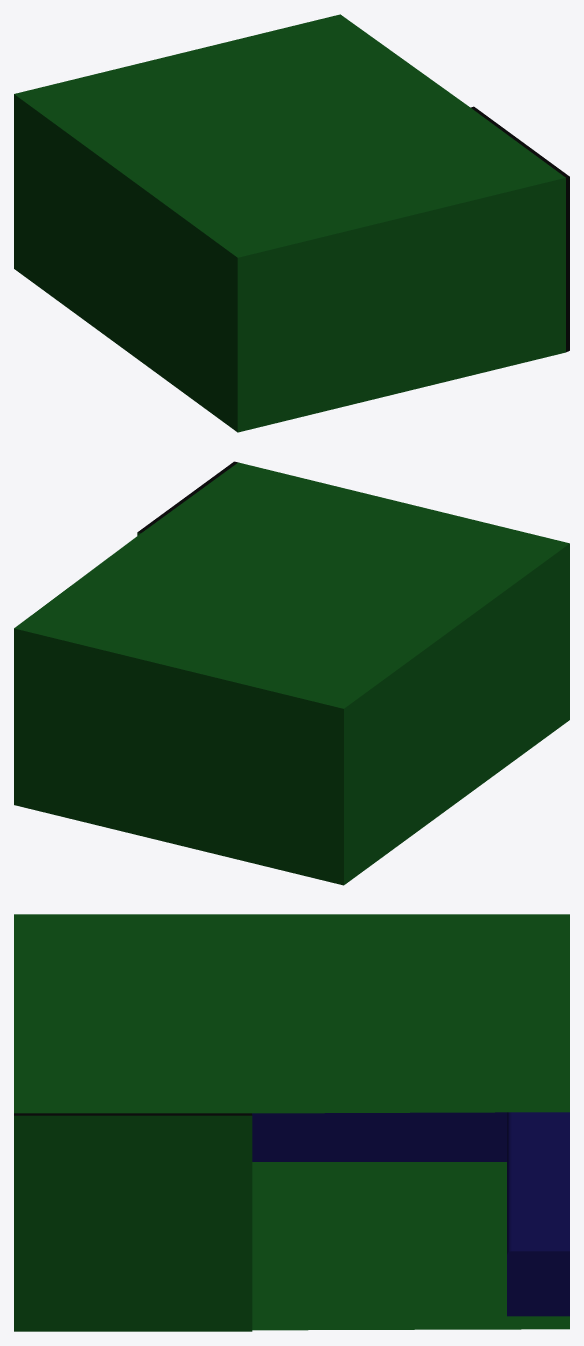
The model's file is Lapr3.fbx.
3 views of the same model, one above another, from view 1: azimuth 30°, elevation 25°; view 2: azimuth 150°, elevation 25°; view 3: azimuth 270°, elevation 25° (orthographic). The views are drawn at different scales.
Visible parts, largest first — view 1: pCube5; view 2: pCube5; view 3: pCube5.
Part boxes in pixels (box(x1,y1,x2,y2)): pCube5: box(14, 14, 569, 432); pCube5: box(14, 461, 569, 885); pCube5: box(14, 914, 569, 1331).
Bounding box in the file's own units: 600 × 302 × 700.
